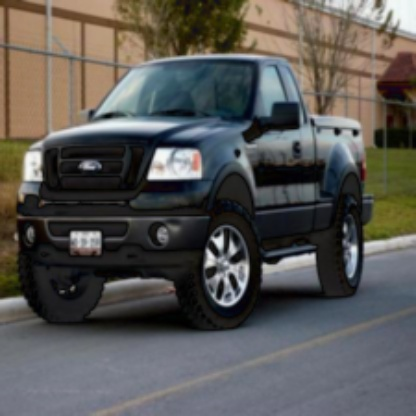Vehicle: (15, 55, 376, 330)
